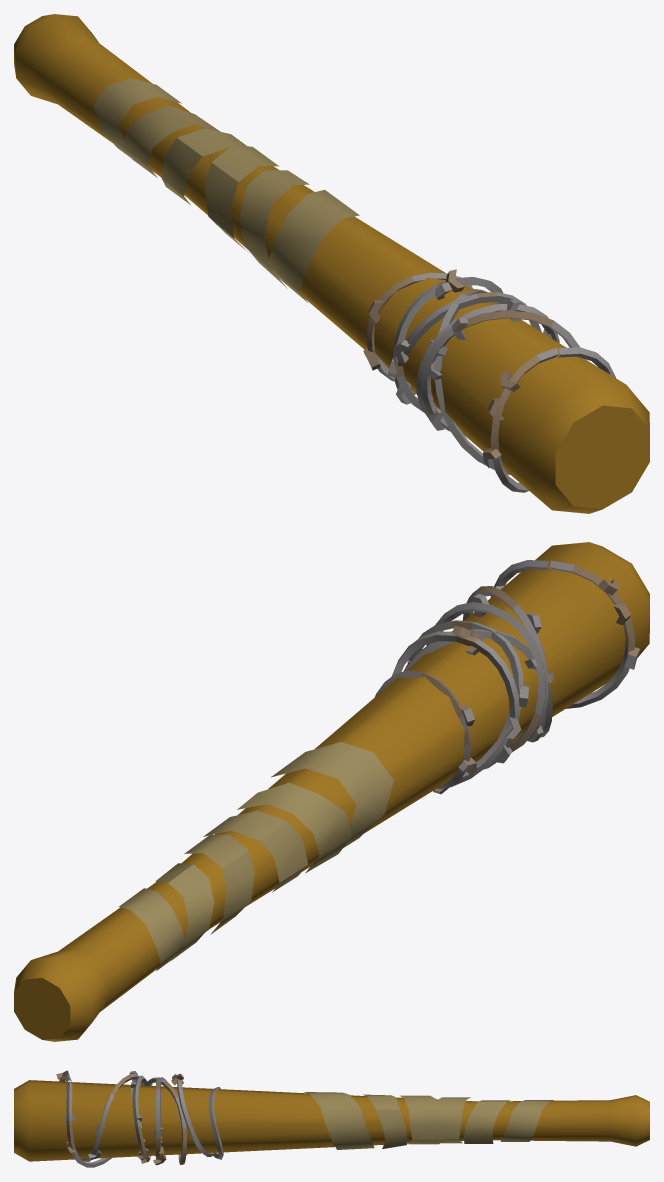
Rendered from Wooden Bat Barbed.glb.
3 views of the same model, one above another, from view 1: azimuth 30°, elevation 25°; view 2: azimuth 150°, elevation 25°; view 3: azimuth 270°, elevation 25° (orthographic). The views are drawn at different scales.
Parts seen in each view (by area): view 1: WoodenBat_Barbed; view 2: WoodenBat_Barbed; view 3: WoodenBat_Barbed.
Boxes of the visible parts, x1,y1,x2,y2 form: WoodenBat_Barbed: (14,14,649,513); WoodenBat_Barbed: (14,542,649,1041); WoodenBat_Barbed: (14,1070,649,1167).
Bounding box in the file's own units: 0.1848 × 0.1909 × 1.24.
1 material, 1 textured.
